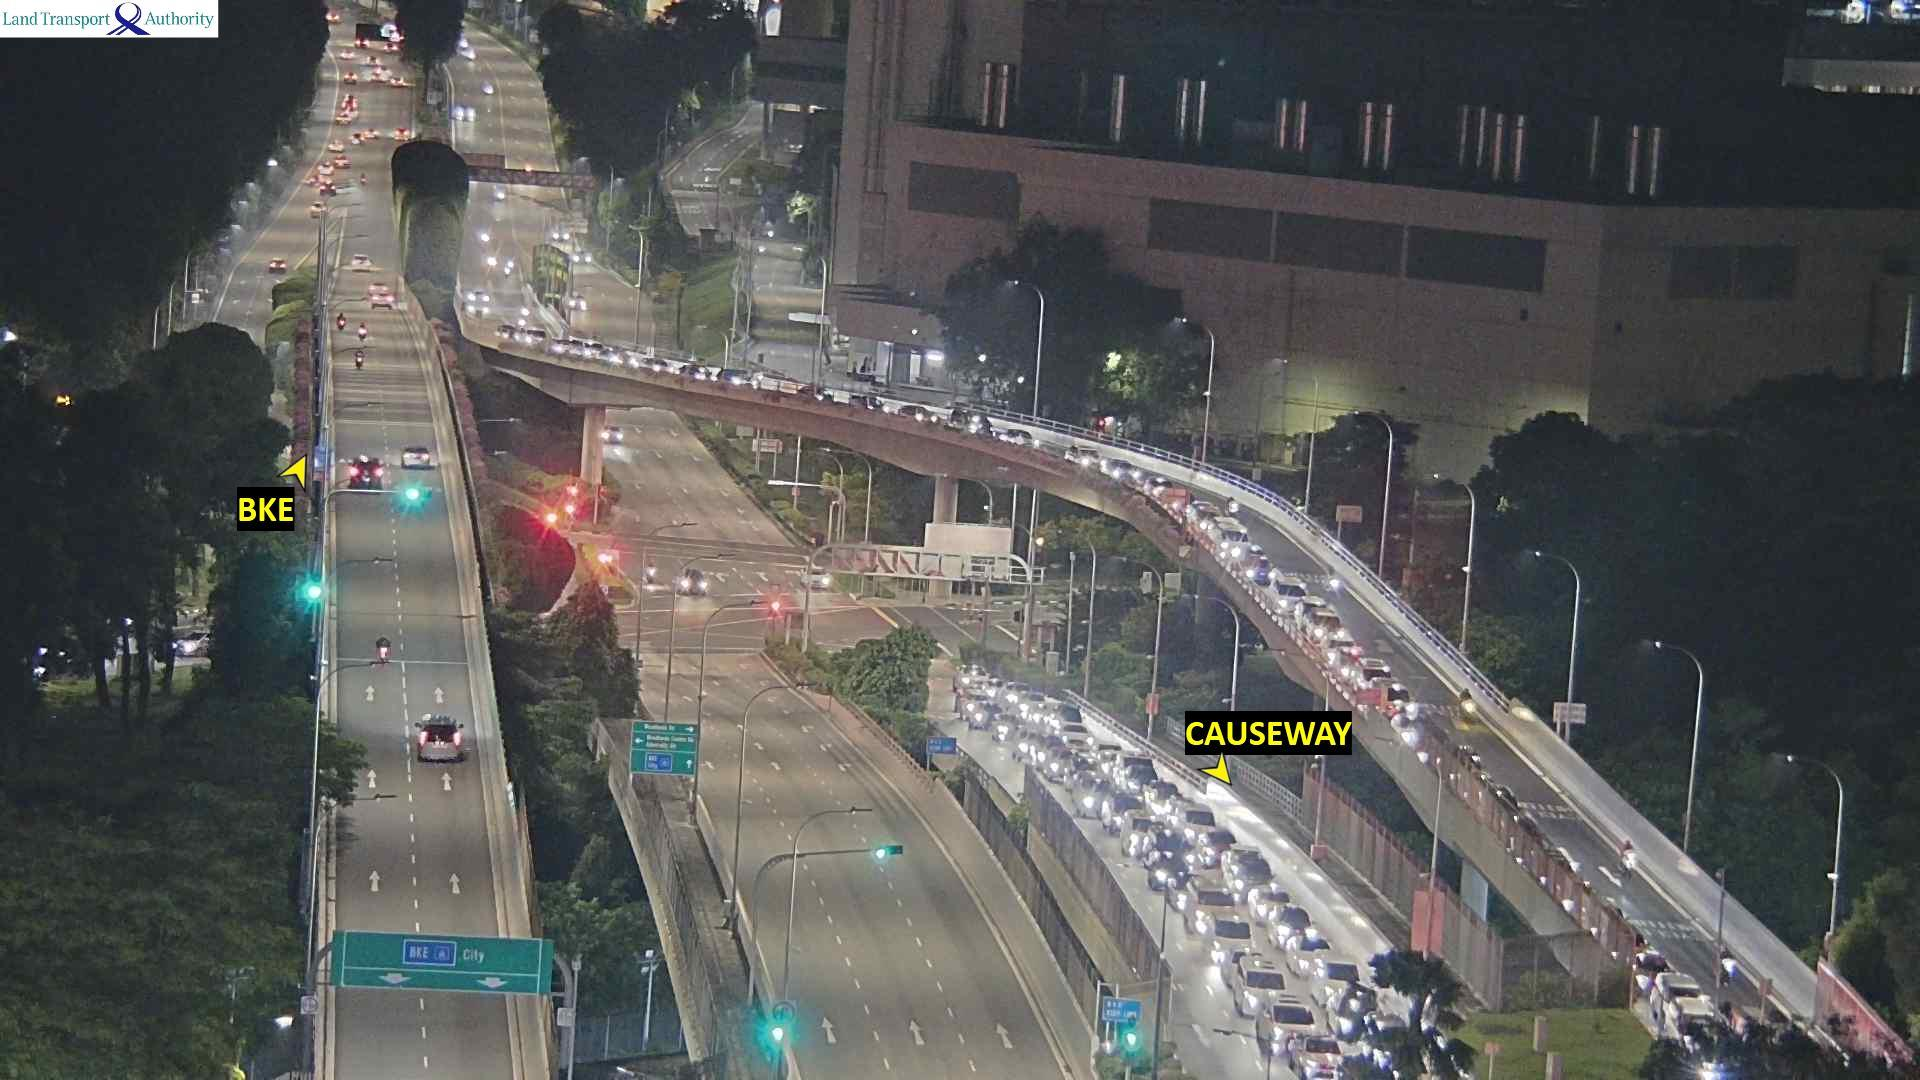vehicle-causeway-johor: (1207, 909, 1247, 963), (1315, 952, 1356, 1003), (1238, 960, 1278, 1011), (1293, 1038, 1338, 1080), (1266, 907, 1314, 946), (1654, 973, 1695, 1018), (1664, 999, 1713, 1035), (1189, 875, 1224, 920), (1124, 760, 1161, 798), (1252, 889, 1294, 921), (1263, 1000, 1316, 1025), (1178, 804, 1216, 837), (1288, 938, 1331, 967), (1200, 832, 1240, 863), (1230, 862, 1268, 894), (1152, 854, 1184, 892), (1102, 794, 1145, 821), (1114, 809, 1159, 831), (1272, 581, 1309, 607), (1292, 599, 1325, 628), (755, 374, 805, 393), (1214, 525, 1246, 554), (962, 693, 994, 722), (810, 389, 863, 406), (1011, 694, 1045, 720), (1306, 613, 1340, 638), (1356, 660, 1384, 690), (991, 714, 1018, 745), (983, 424, 1032, 441), (1189, 498, 1218, 526), (1321, 634, 1350, 661), (549, 341, 599, 356), (957, 667, 988, 691), (1066, 446, 1099, 468), (1048, 704, 1082, 725), (1380, 687, 1408, 712), (1714, 942, 1734, 976), (1069, 771, 1108, 788), (804, 565, 834, 587), (712, 371, 759, 385), (973, 705, 997, 732), (1084, 745, 1120, 762), (512, 324, 550, 340), (1062, 724, 1087, 748), (1100, 461, 1137, 477), (1004, 683, 1024, 711), (1144, 477, 1174, 495), (1242, 559, 1269, 579), (642, 358, 680, 372), (685, 367, 727, 379), (1620, 840, 1634, 874)
vehicle-causeway-singapore: (348, 456, 386, 485), (418, 716, 463, 740), (405, 448, 436, 469), (344, 256, 372, 269), (269, 259, 295, 272), (362, 352, 378, 371), (372, 295, 392, 309), (367, 282, 387, 296), (378, 635, 389, 659), (359, 321, 367, 342), (338, 312, 346, 330)
